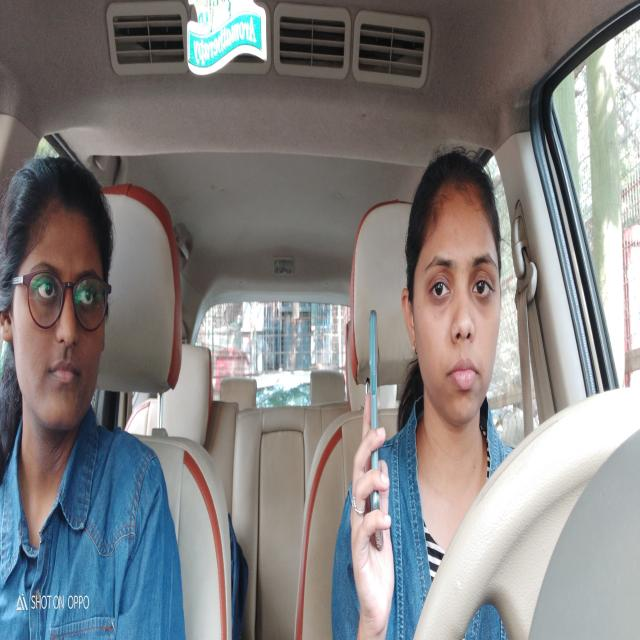mobile: (364, 298, 388, 566)
person: (0, 144, 118, 443), (399, 144, 508, 432)
